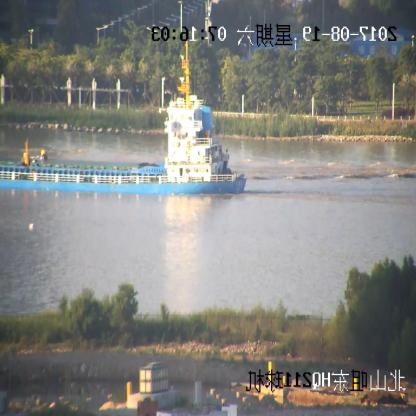Bulk Carrier: (0, 47, 248, 195)
